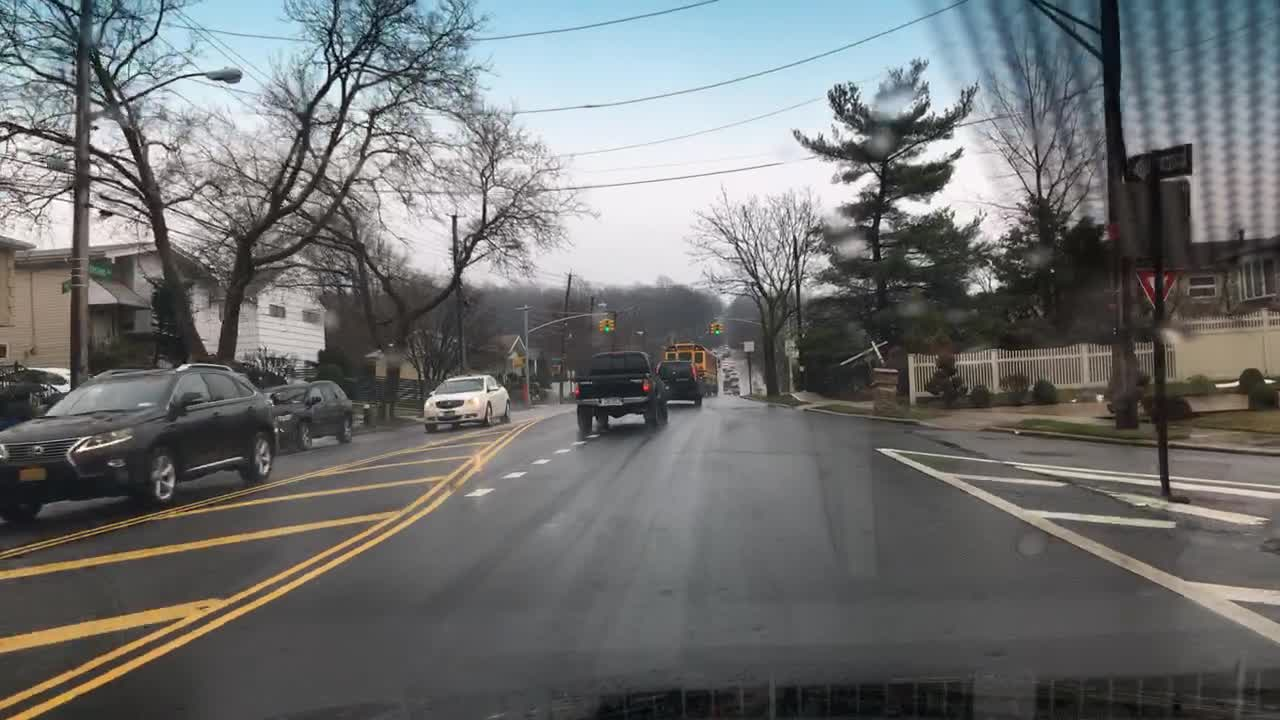bus: (663, 342, 721, 393)
car: (3, 362, 282, 522), (261, 380, 355, 449), (420, 376, 511, 429), (654, 361, 705, 403), (1, 367, 70, 394), (725, 383, 742, 393), (720, 347, 730, 355), (729, 371, 738, 378)
traffic light: (603, 318, 610, 332), (712, 321, 718, 334), (718, 323, 724, 333), (598, 319, 602, 332), (610, 321, 615, 330), (707, 324, 712, 333)
traffic sign: (1127, 141, 1189, 179), (1137, 269, 1178, 306), (89, 263, 114, 277), (59, 279, 72, 292)
truck: (575, 350, 667, 429)
